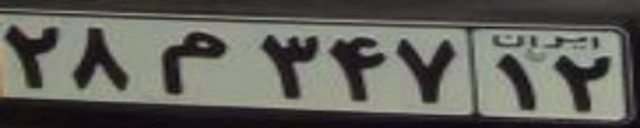1: (491, 52, 538, 109)
2: (551, 53, 612, 112), (4, 24, 57, 89)
3: (258, 32, 320, 99)
4: (328, 37, 386, 102)
7: (393, 36, 464, 104)
8: (67, 24, 129, 89)
mim: (157, 31, 228, 96)
